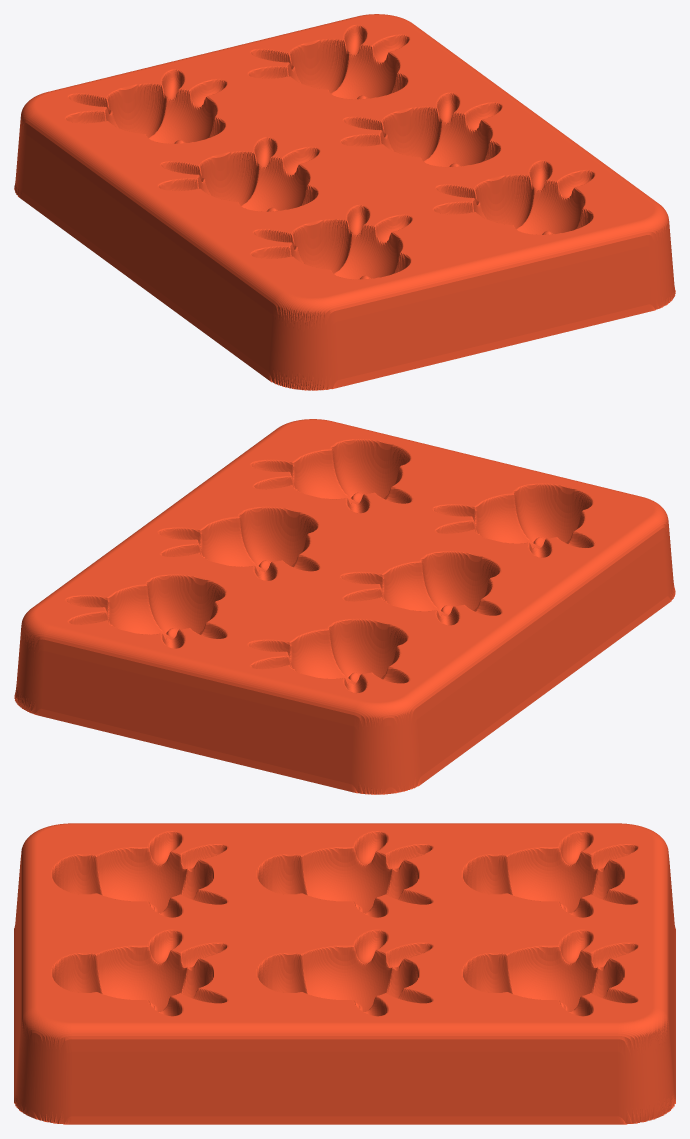
The model's file is mold.glb.
3 views of the same model, one above another, from view 1: azimuth 30°, elevation 25°; view 2: azimuth 150°, elevation 25°; view 3: azimuth 270°, elevation 25° (orthographic). The views are drawn at different scales.
Visible parts, largest first — view 1: geometry_0; view 2: geometry_0; view 3: geometry_0.
Boxes of the visible parts, x1,y1,x2,y2 form: geometry_0: (14, 14, 675, 390); geometry_0: (14, 419, 675, 794); geometry_0: (14, 823, 675, 1124).
Bounding box in the file's own units: 0.08 × 0.0159 × 0.1032.
